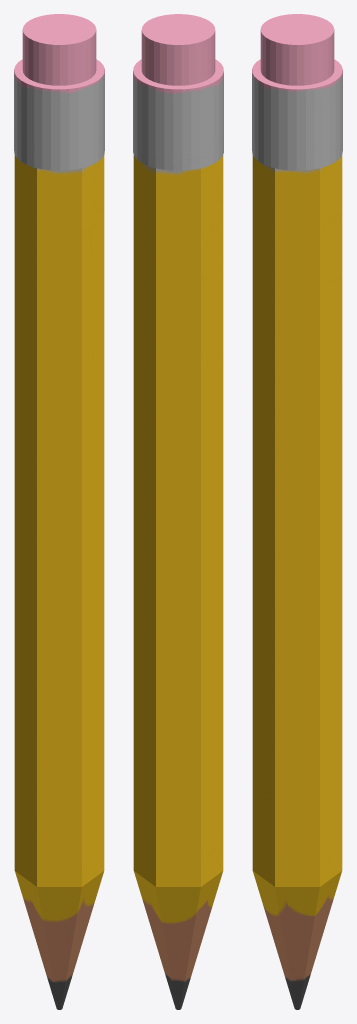
File: TexturedPencil.glb
The picture shows the model from 3 angles, left to right: view 1: azimuth 30°, elevation 25°; view 2: azimuth 150°, elevation 25°; view 3: azimuth 330°, elevation 25°; orthographic projection.
Visible parts, largest first — view 1: node_id8, node_id11, node_id5, node_id14; view 2: node_id8, node_id11, node_id5, node_id14; view 3: node_id8, node_id11, node_id5, node_id14.
Part boxes in pixels (bbox=[...]): node_id8: bbox=[14, 155, 104, 886]; node_id11: bbox=[14, 59, 104, 170]; node_id5: bbox=[15, 871, 103, 1009]; node_id14: bbox=[22, 14, 96, 85]; node_id8: bbox=[133, 155, 223, 886]; node_id11: bbox=[133, 59, 223, 170]; node_id5: bbox=[134, 871, 222, 1009]; node_id14: bbox=[141, 14, 215, 85]; node_id8: bbox=[252, 155, 342, 886]; node_id11: bbox=[252, 59, 342, 170]; node_id5: bbox=[253, 871, 341, 1009]; node_id14: bbox=[260, 14, 334, 85].
Size of the model in its own units: 0.043 by 0.512 by 0.043.
Materials: 4 (4 with a texture image).
